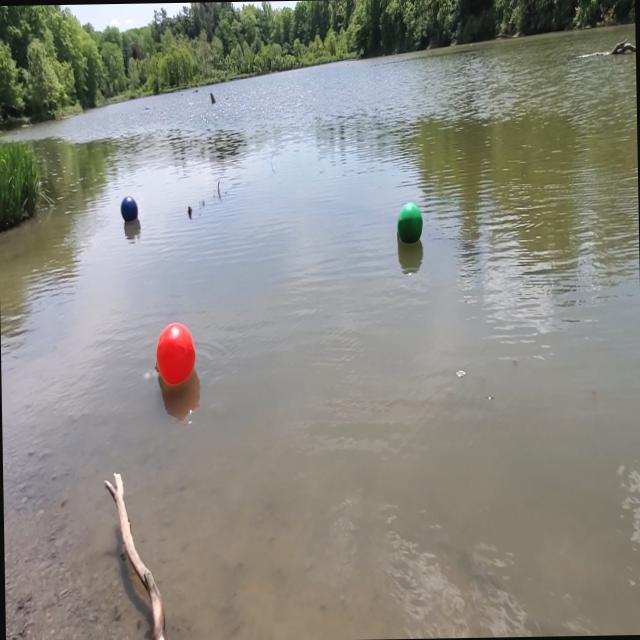buoy: (152, 318, 195, 388), (394, 196, 424, 247), (119, 192, 138, 225)
